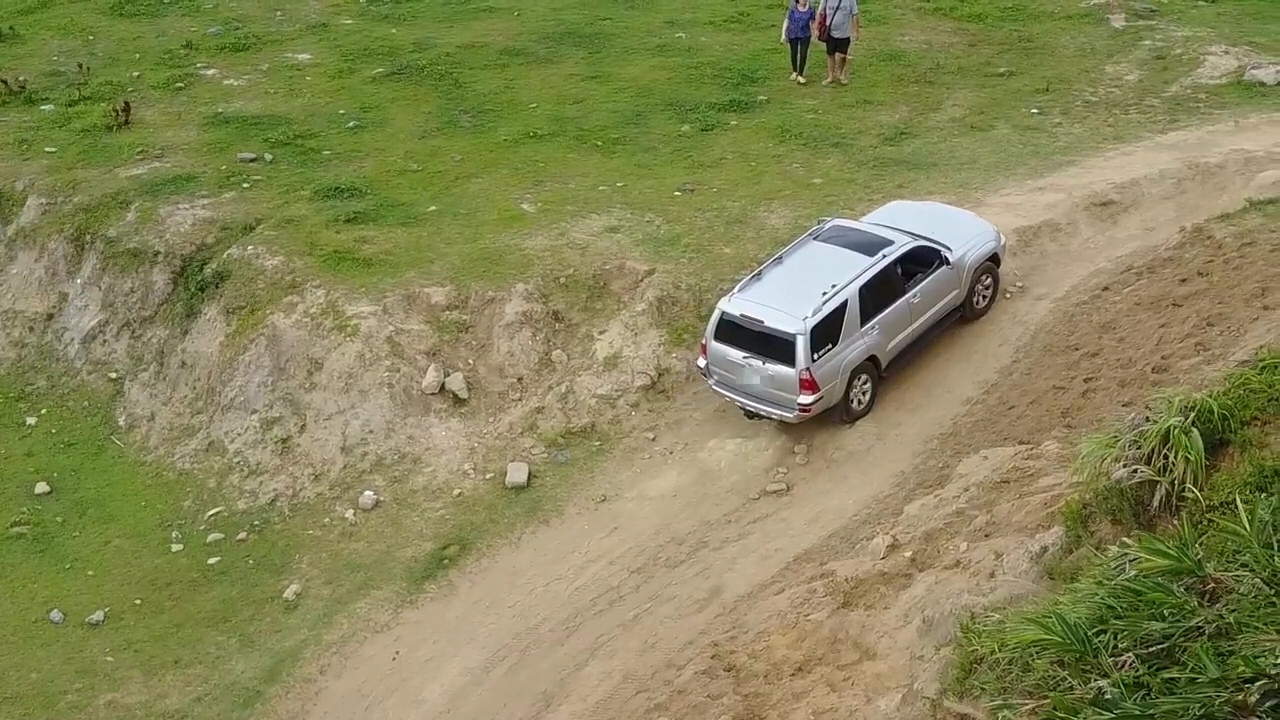insan: (778, 1, 820, 90), (820, 1, 863, 84)
